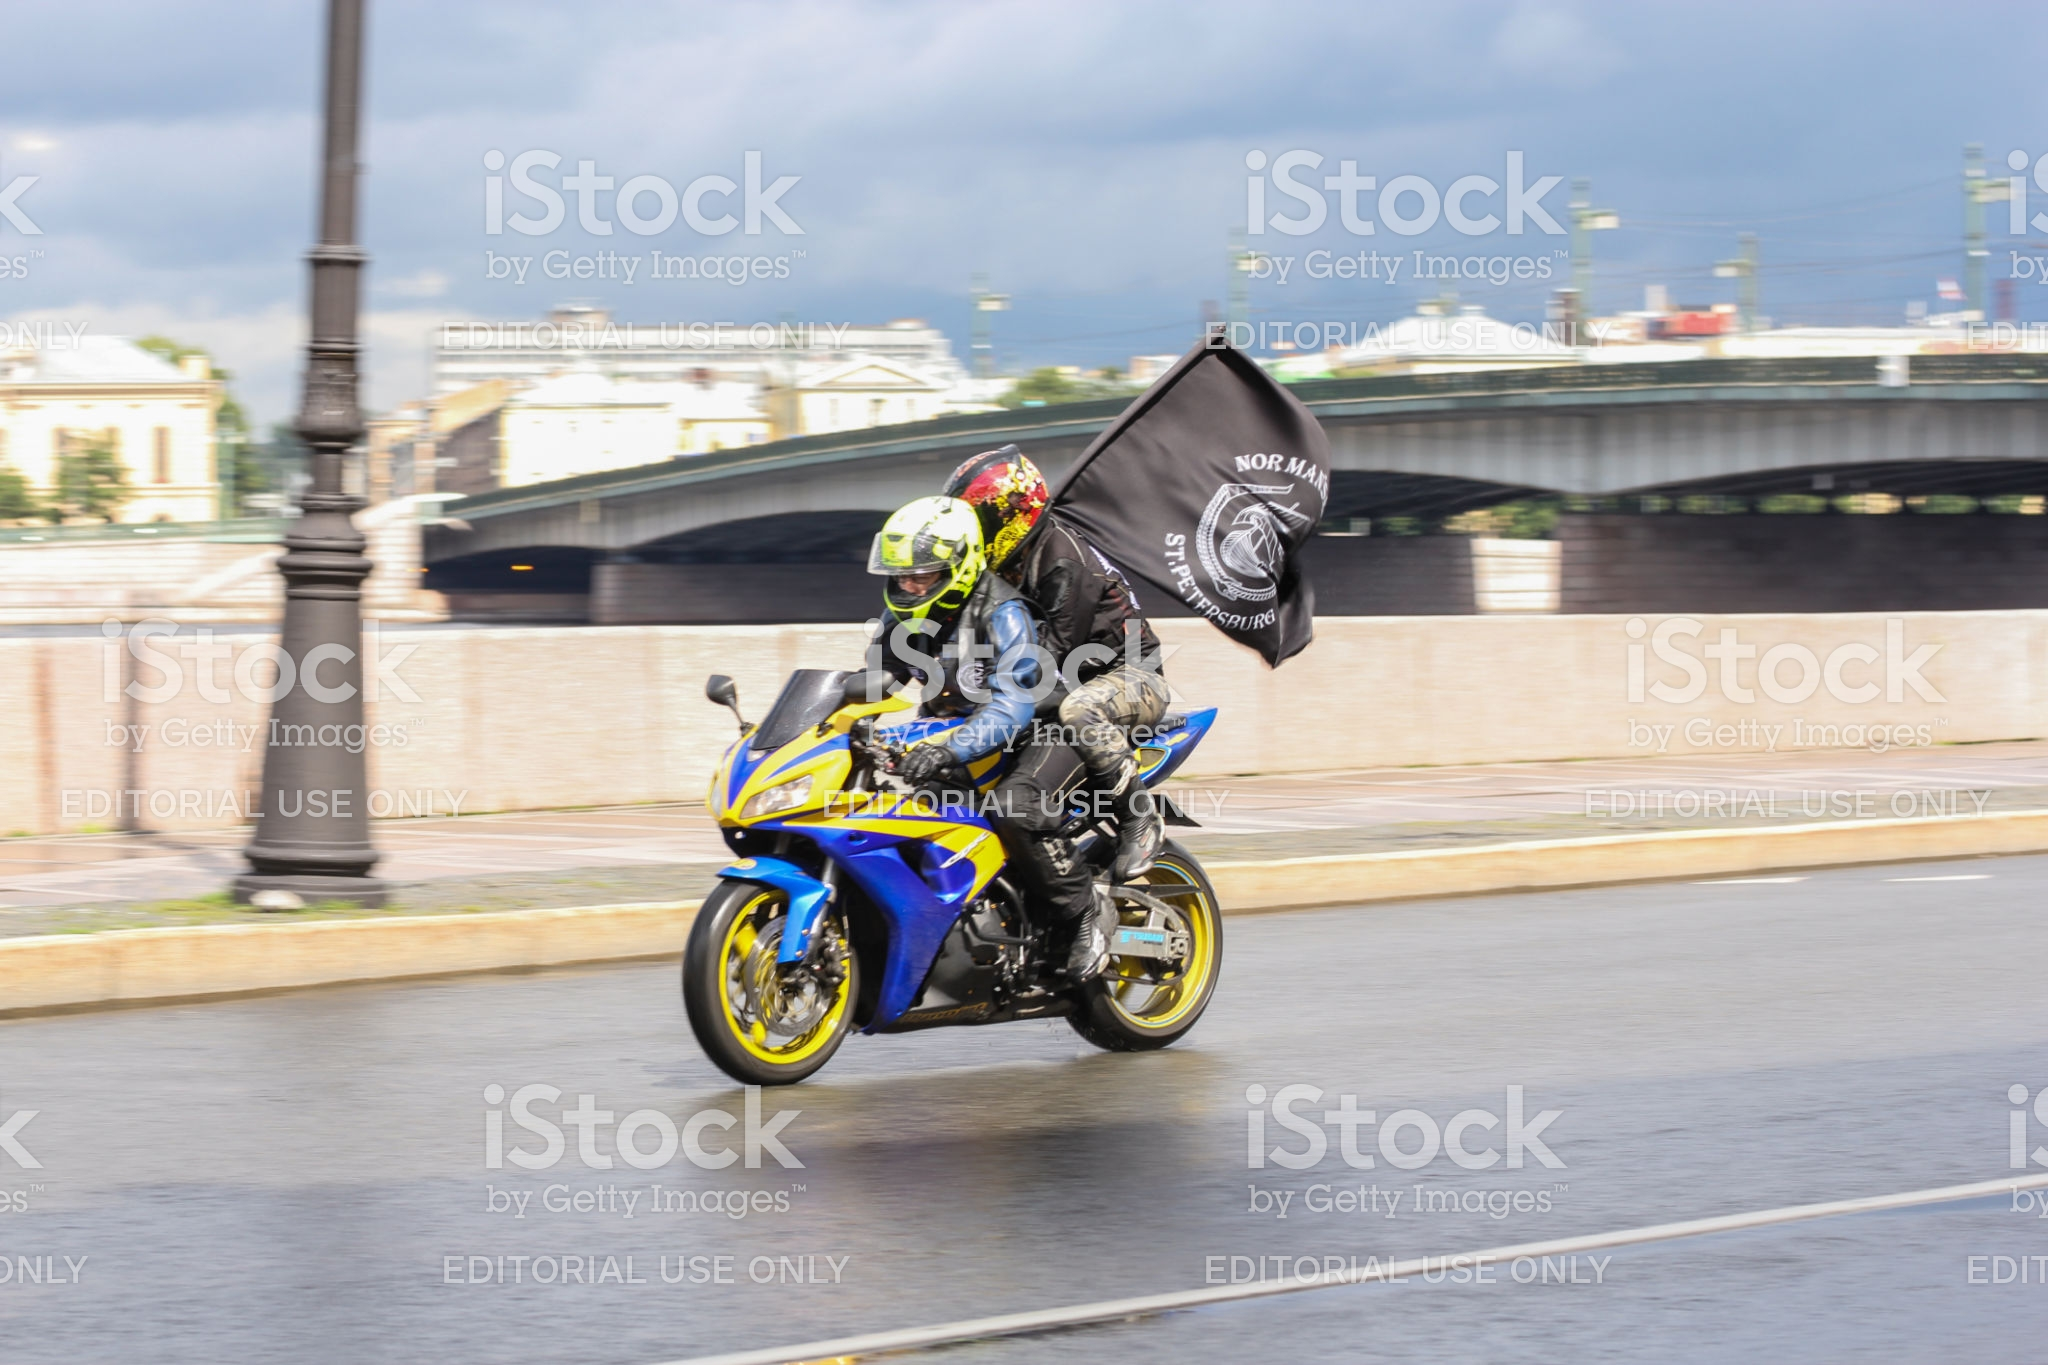helmet: (943, 425, 1051, 538), (859, 483, 979, 577)
